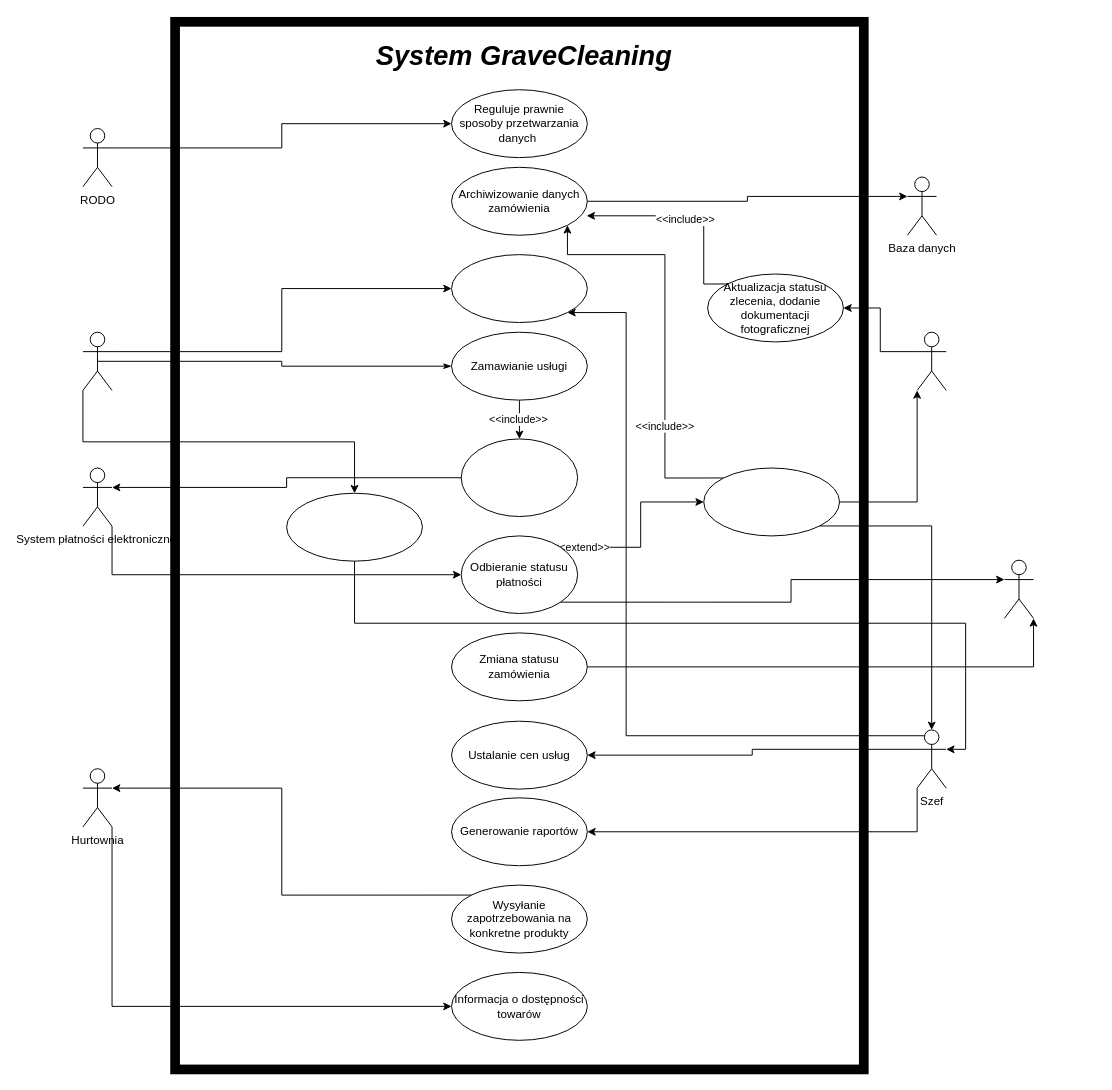
Some shapes in this 1112 by 1090 pixel diagram are drawn without their labels. Here are the shapes that lost their labels. From the top down, the centre of each, then its label:
At [519,288]: "Monitorowanie statusu zamówienia".
At [97,360]: "Klient".
At [931,360]: "Konserwator".
At [519,477]: "Płatność elektroniczna".
At [771,501]: "Przekazywanie informacji o zamówieniu".
At [354,526]: "Kontakt poprzez formularz".
At [1018,588]: "Bramka SMS / System e-mail".
